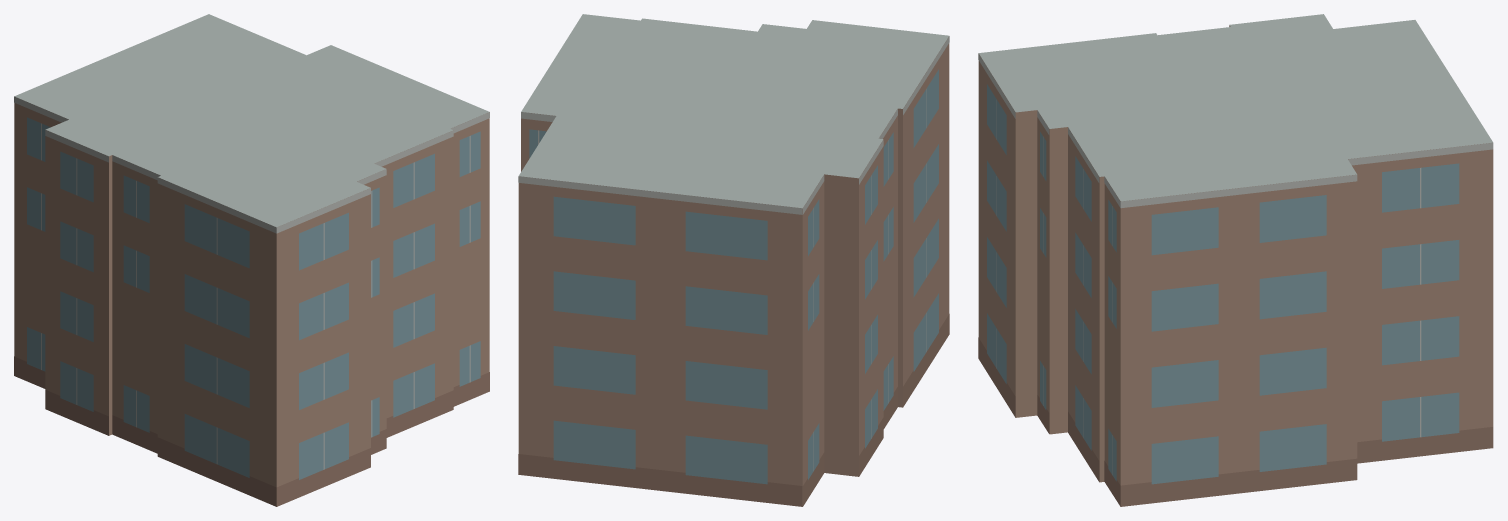
The model's file is survey-upis-32919402.glb.
The picture shows the model from 3 angles, left to right: view 1: azimuth 30°, elevation 25°; view 2: azimuth 150°, elevation 25°; view 3: azimuth 270°, elevation 25°; orthographic projection. The views are drawn at different scales.
Parts seen in each view (by area): view 1: survey-upis-32919402.tmp; view 2: survey-upis-32919402.tmp; view 3: survey-upis-32919402.tmp.
Part boxes in pixels (x1=…): survey-upis-32919402.tmp: x1=14, y1=14, x2=489, y2=506; survey-upis-32919402.tmp: x1=518, y1=14, x2=949, y2=506; survey-upis-32919402.tmp: x1=978, y1=14, x2=1493, y2=506.
Size of the model in its own units: 14.42 by 10.95 by 16.74.
